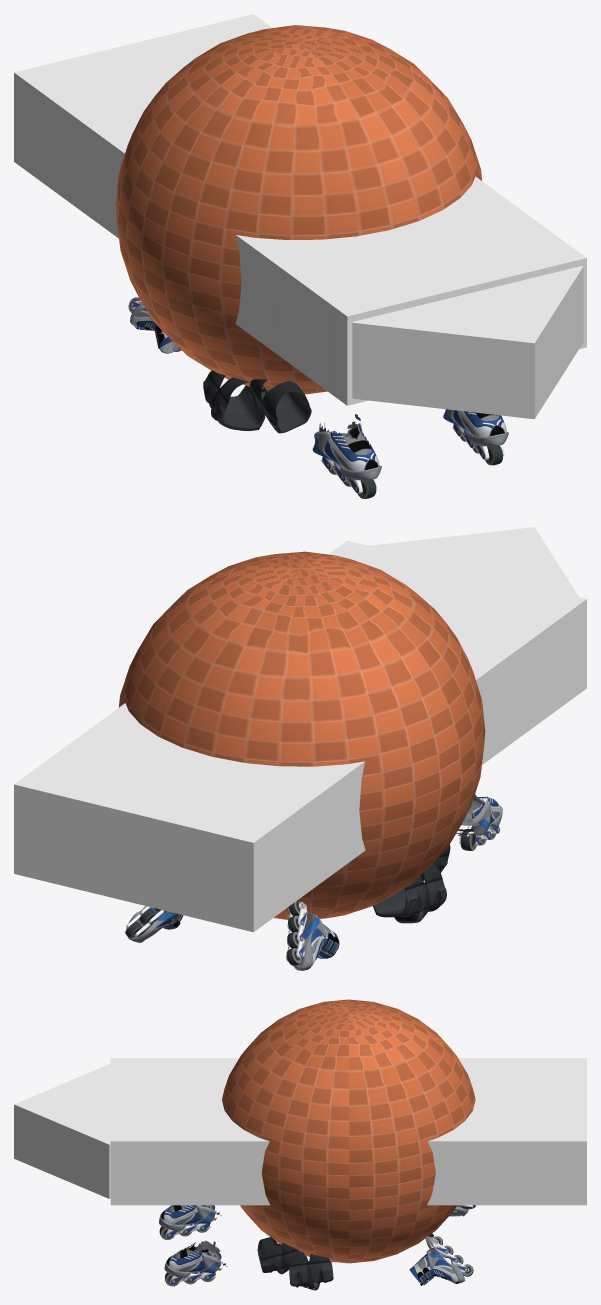
File: PlayerEssentials.glb
3 renders of one model, top to bottom at view 1: azimuth 30°, elevation 25°; view 2: azimuth 150°, elevation 25°; view 3: azimuth 270°, elevation 25°, orthographic. The views are drawn at different scales.
Visible parts, largest first — view 1: DebugBall, Cube, Head, 10500_Elbow_Pads (×2), handSkate_01, handSkate, 10514_Inline_Skates; view 2: DebugBall, Cube, Head, 10514_Inline_Skates (×2), 10500_Elbow_Pads, handSkate_01; view 3: DebugBall, Cube, Head, 10500_Elbow_Pads (×2), handSkate, 10514_Inline_Skates, handSkate_01.
Boxes of the visible parts, box(x1,y1,x2,y2) form: DebugBall: box(115, 25, 481, 394); Cube: box(14, 14, 586, 405); Head: box(352, 266, 583, 419); 10500_Elbow_Pads (×2): box(203, 370, 311, 433); handSkate_01: box(312, 414, 381, 498); handSkate: box(443, 409, 508, 465); 10514_Inline_Skates: box(128, 297, 181, 353); DebugBall: box(118, 551, 485, 919); Cube: box(14, 540, 586, 932); Head: box(369, 527, 578, 596); 10514_Inline_Skates (×2): box(125, 901, 339, 970); 10500_Elbow_Pads: box(373, 863, 446, 923); handSkate_01: box(456, 794, 502, 850); DebugBall: box(222, 999, 475, 1263); Cube: box(110, 1058, 586, 1205); Head: box(14, 1064, 110, 1198); 10500_Elbow_Pads (×2): box(257, 1237, 333, 1290); handSkate: box(164, 1240, 227, 1286); 10514_Inline_Skates: box(409, 1233, 473, 1285); handSkate_01: box(159, 1205, 221, 1239).
Size of the model in its own units: 0.5 by 0.5199 by 1.08.
Materials: 6 (5 with a texture image).
